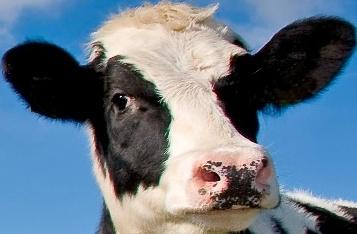muzzles: (170, 143, 288, 231)
